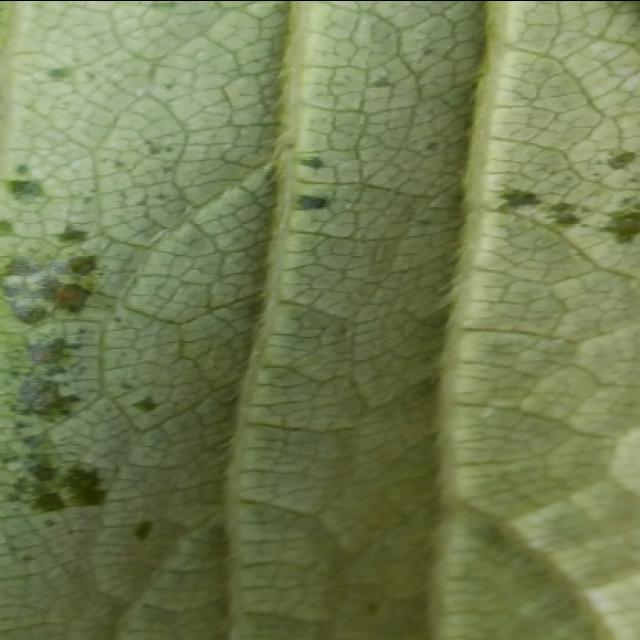Angular Leafspot: (0, 38, 638, 574)
